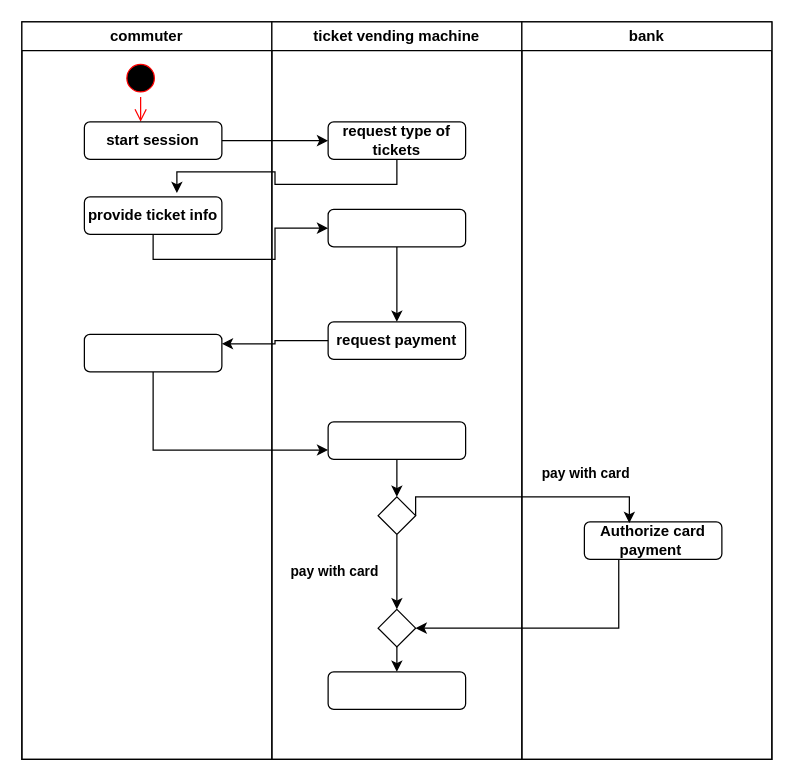
Image size: 794x781. Some labels were removed from this diagram. Each missing label, with the centre of its shape:
"dispense ticket" goes at point 396,690.
"process payment" goes at point 396,440.
"process ticket" goes at point 396,227.
"provide payment info" goes at point 152,352.
